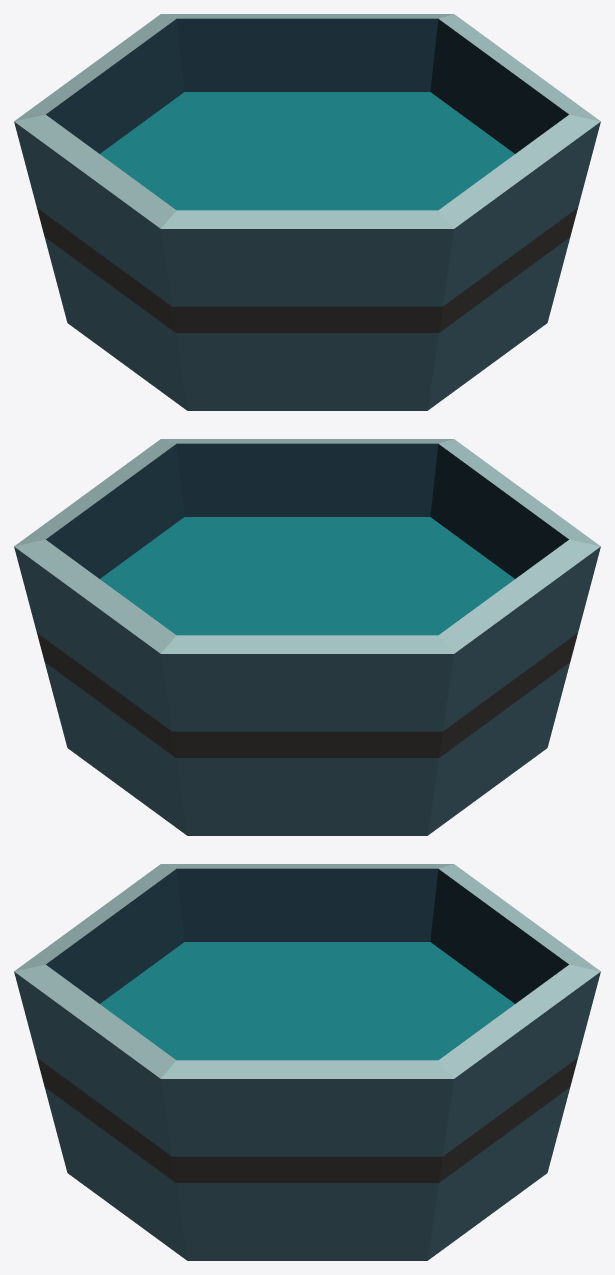
The model's file is TB_Prop_Bucket_Water_E.FBX.
3 renders of one model, top to bottom at view 1: azimuth 30°, elevation 25°; view 2: azimuth 150°, elevation 25°; view 3: azimuth 270°, elevation 25°, orthographic.
Parts seen in each view (by area): view 1: TB_Prop_Bucket_Water_E; view 2: TB_Prop_Bucket_Water_E; view 3: TB_Prop_Bucket_Water_E.
Part boxes in pixels (x1,y1,x2,y2): TB_Prop_Bucket_Water_E: (14, 14, 600, 410); TB_Prop_Bucket_Water_E: (14, 439, 600, 835); TB_Prop_Bucket_Water_E: (14, 864, 600, 1260).
Size of the model in its own units: 0.9353 by 0.4233 by 1.08.
